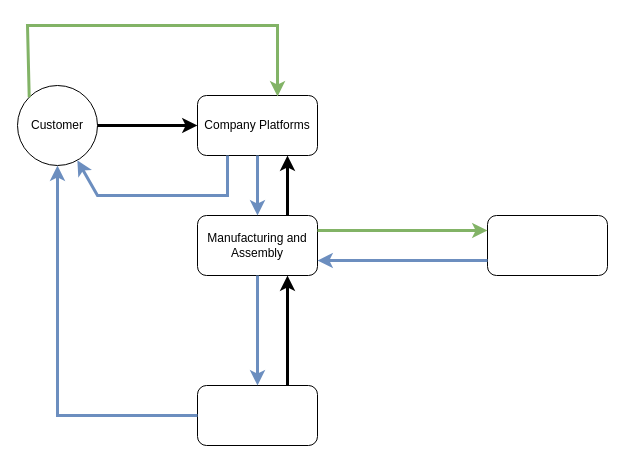
The diagram is 625 pixels wide and 463 high, and some of its shapes have lost their labels. The centre of each missing label's shape, as x and y in pixels:
"Delivery Partner" belongs at (x=257, y=415).
"Source of Raw Materials" belongs at (x=547, y=245).
